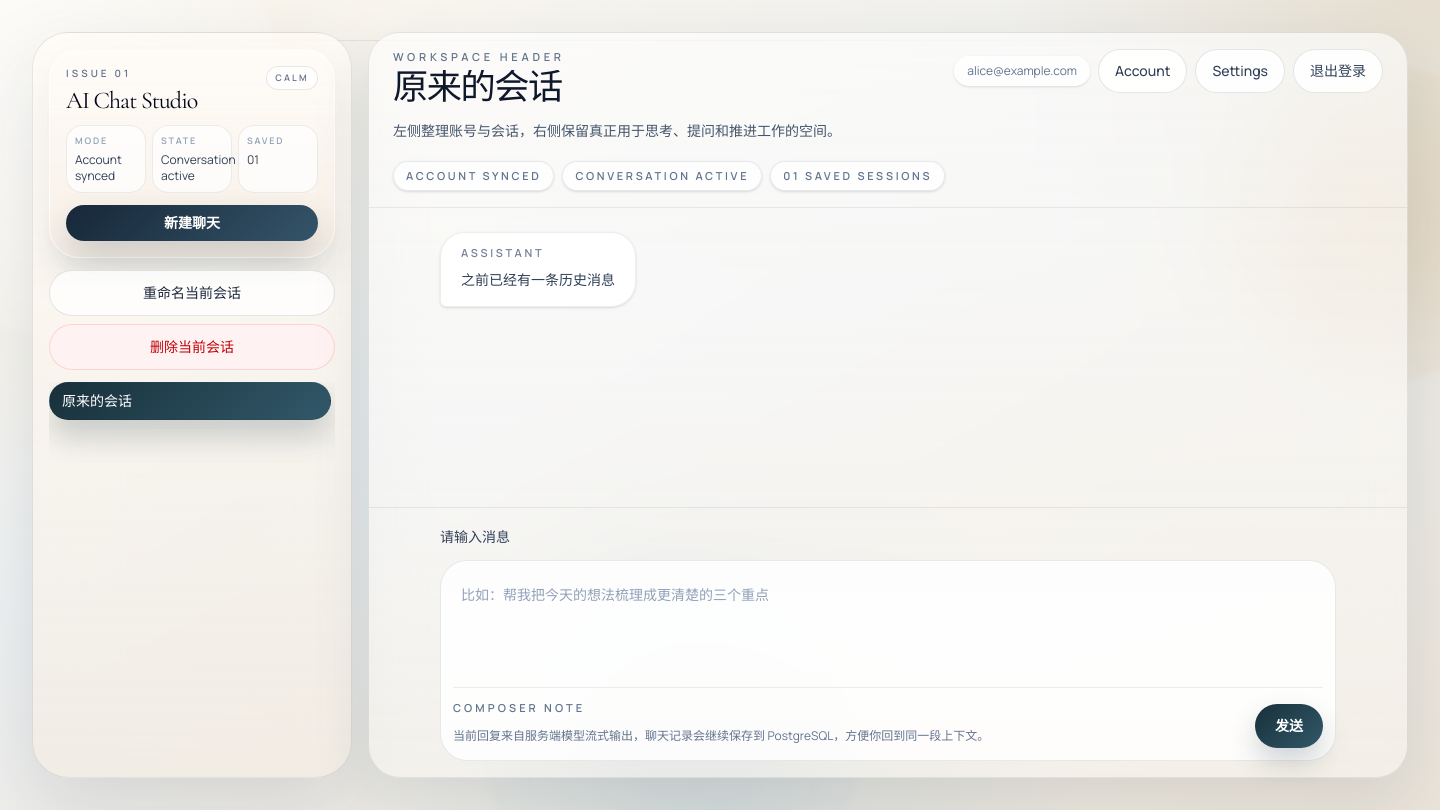
Scenario: ChatApp › preserves the current conversation and shows re-login actions when chat returns 401
The image size is (1440, 810).
Type "测试消息" into the text box labelled "请输入消息".
click(888, 620); type("测试消息")  # box [453, 572, 1323, 668]
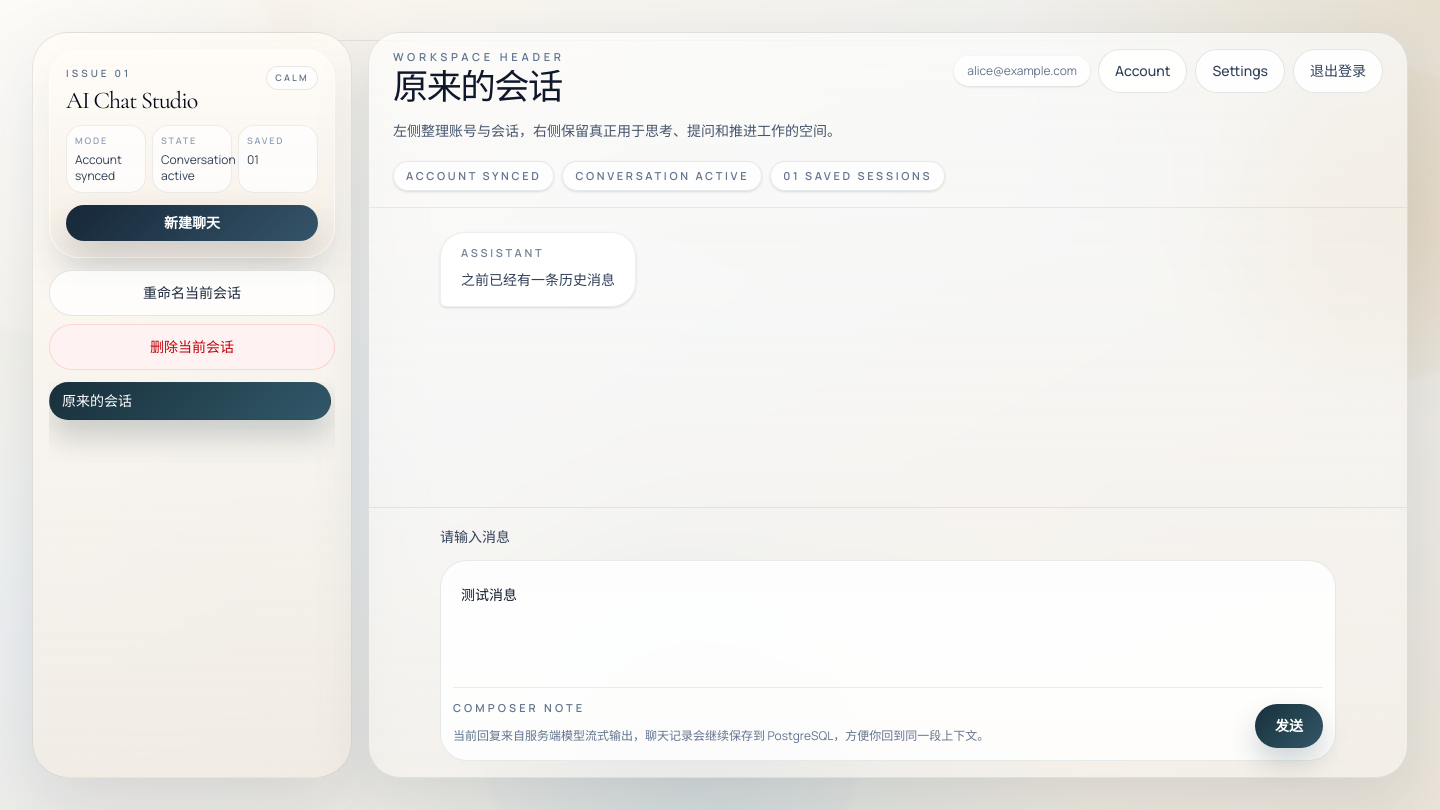
Click the button "发送".
click(1289, 726)  # box [1255, 704, 1323, 748]
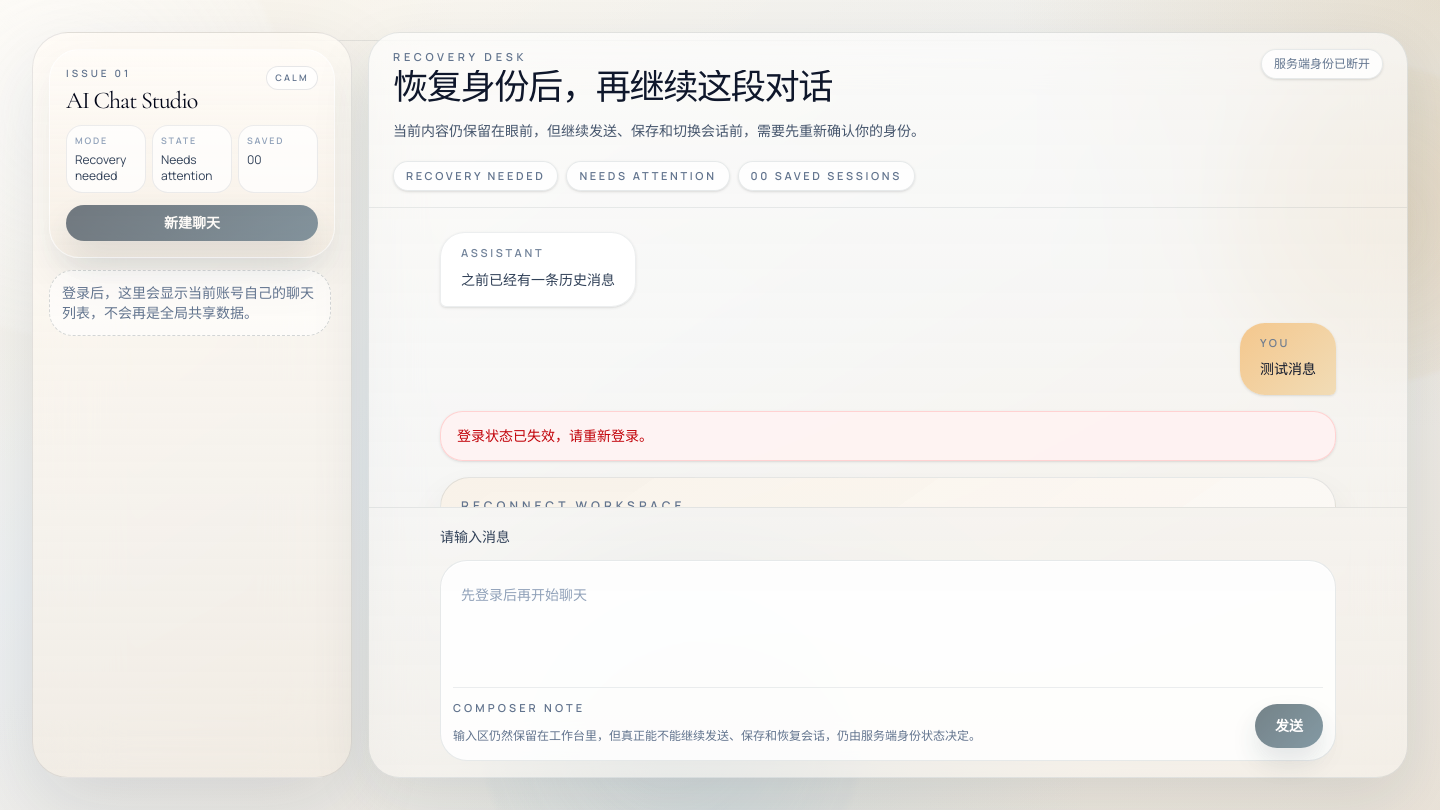
Expected: the text "之前已经有一条历史消息" is shown, [461, 266, 615, 294]
Expected: the text "测试消息" is shown, [1260, 355, 1316, 383]
Expected: the button "发送" is disabled, [1255, 704, 1323, 748]
